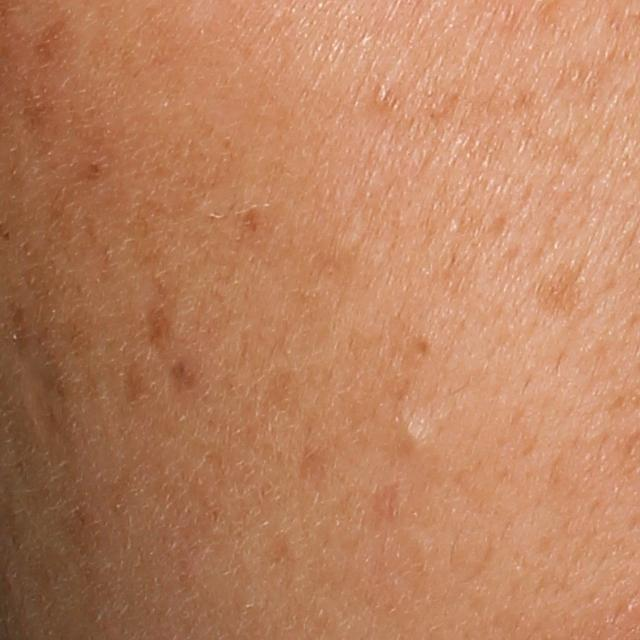comedo: (395, 416, 436, 460)
melasma: (132, 240, 185, 362), (529, 245, 594, 325), (123, 353, 161, 410), (166, 358, 210, 394)
